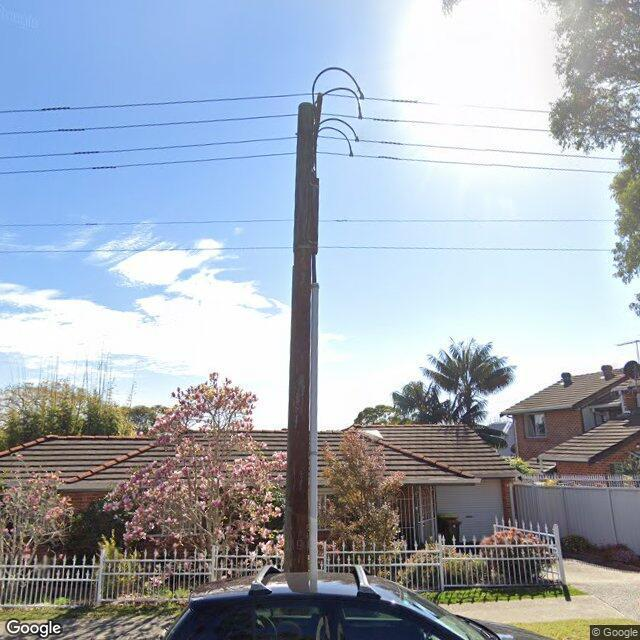crossarm: (311, 91, 324, 158)
timber-pole: (283, 100, 321, 573)
